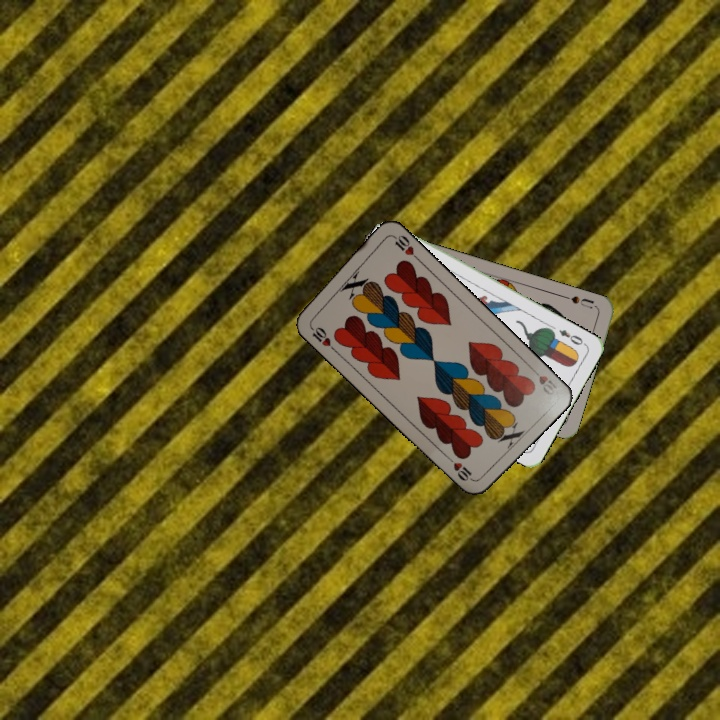EO: (555, 326, 589, 348)
H10: (527, 363, 561, 399), (305, 321, 338, 353)
SU: (559, 292, 599, 311)
